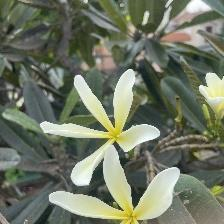champaka: (41, 69, 163, 188), (50, 147, 182, 224), (199, 70, 224, 119)
